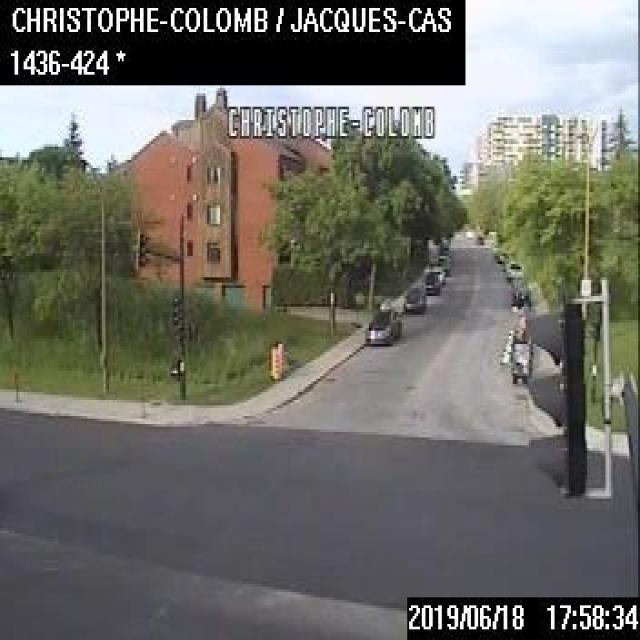construction: (270, 345, 281, 379), (275, 341, 284, 375)
vehicle: (364, 306, 401, 342), (509, 339, 531, 381), (420, 264, 444, 292), (508, 276, 530, 304), (402, 286, 424, 312), (503, 258, 523, 278), (434, 253, 450, 274), (493, 248, 508, 262), (473, 230, 483, 242)
